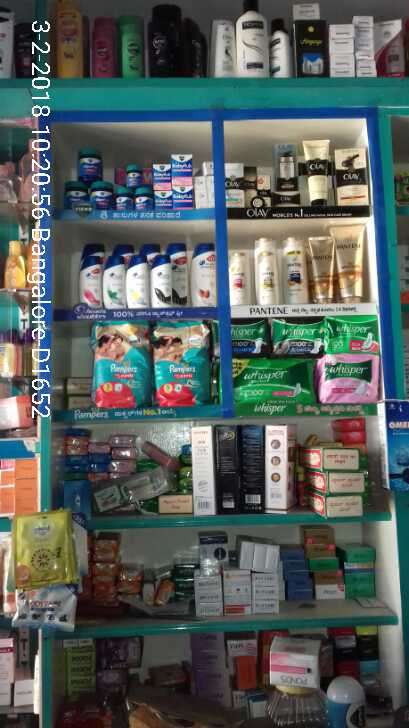vicks: (60, 144, 195, 213)
